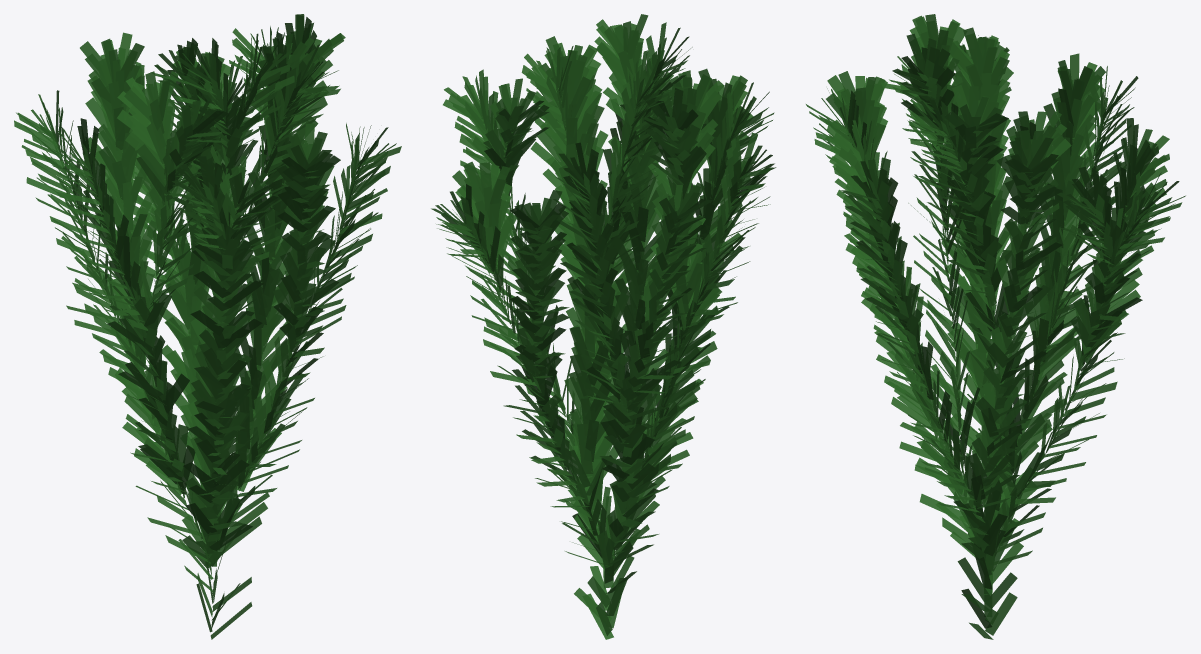
Rendered from vertical leaf.fbx.
3 views of the same model, side by side, from view 1: azimuth 30°, elevation 25°; view 2: azimuth 150°, elevation 25°; view 3: azimuth 270°, elevation 25° (orthographic). The views are drawn at different scales.
Visible parts, largest first — view 1: leaves; view 2: leaves; view 3: leaves.
Part boxes in pixels (x1,y1,x2,y2): leaves: (14, 14, 401, 639); leaves: (431, 14, 776, 639); leaves: (806, 14, 1185, 639).
Bounding box in the file's own units: 281 × 526 × 297.
